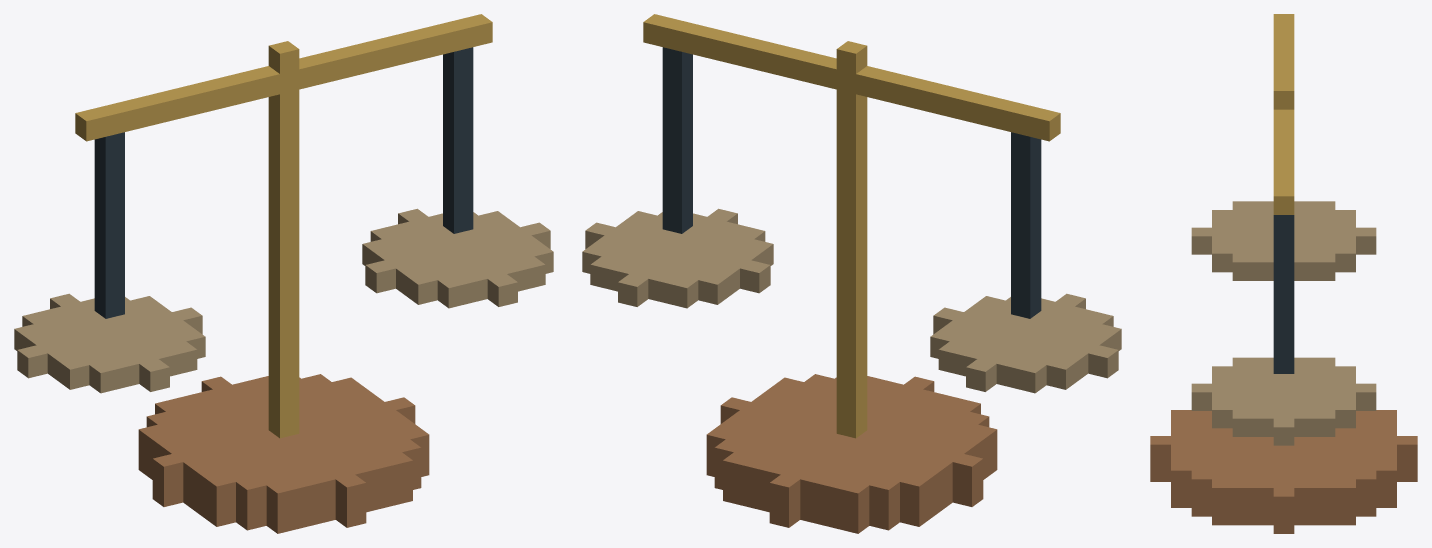
Rendered from pets-18.glb.
3 views of the same model, side by side, from view 1: azimuth 30°, elevation 25°; view 2: azimuth 150°, elevation 25°; view 3: azimuth 270°, elevation 25° (orthographic). The views are drawn at different scales.
Parts seen in each view (by area): view 1: Pet scale; view 2: Pet scale; view 3: Pet scale.
Part boxes in pixels (x1,y1,x2,y2): Pet scale: [14, 14, 553, 533]; Pet scale: [582, 14, 1121, 533]; Pet scale: [1150, 14, 1417, 533].
Size of the model in its own units: 2.16 by 1.68 by 1.04.
